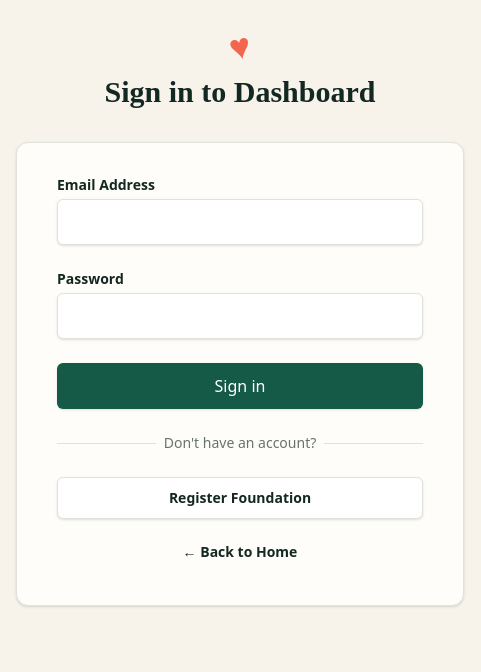
Login Page › shows error if fetch fails
This screenshot has width=481, height=672.
Type "test@test.com" into the field named "email" at (240, 222), box [57,199,423,245]
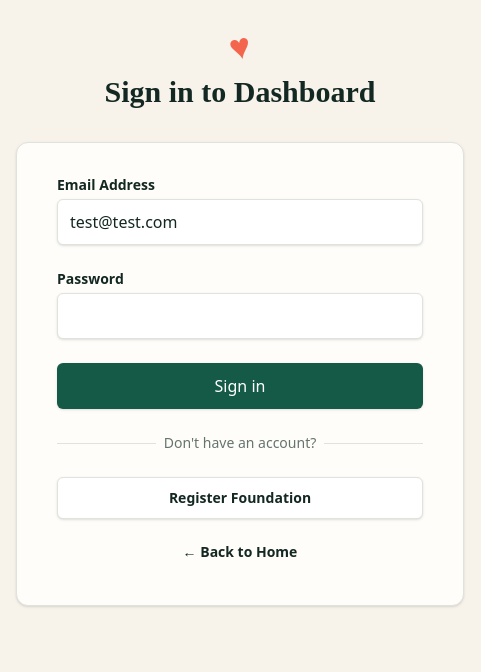
Type "password123" into the password field named "password" at (240, 316), box [57,293,423,339]
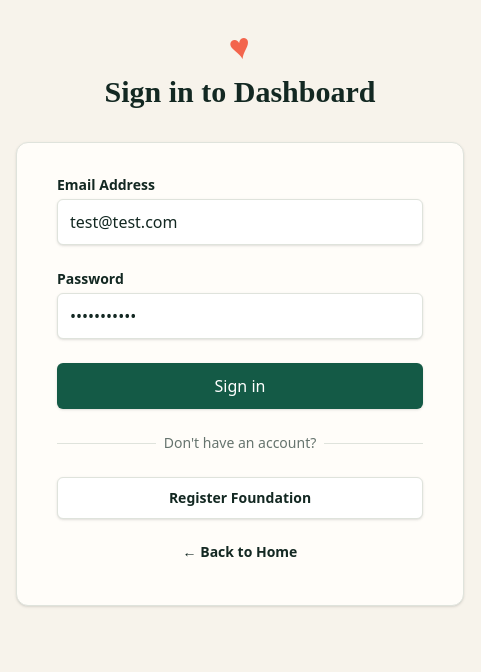
Click the button "Sign in" at (240, 386), box [57,363,423,409]
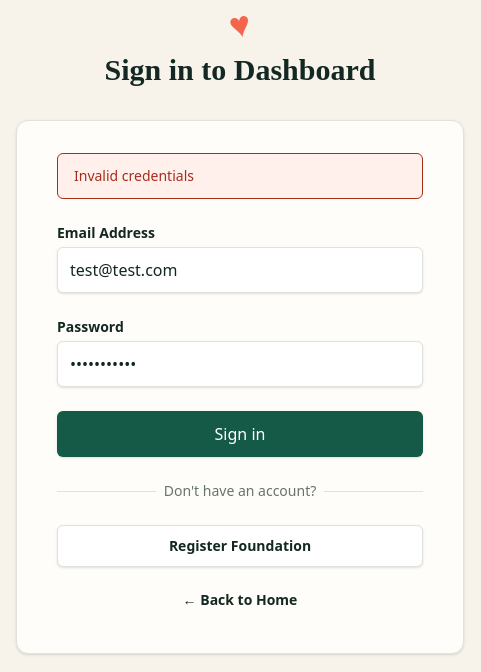
Check: the text "Invalid credentials" is shown, box [57,153,423,199]
